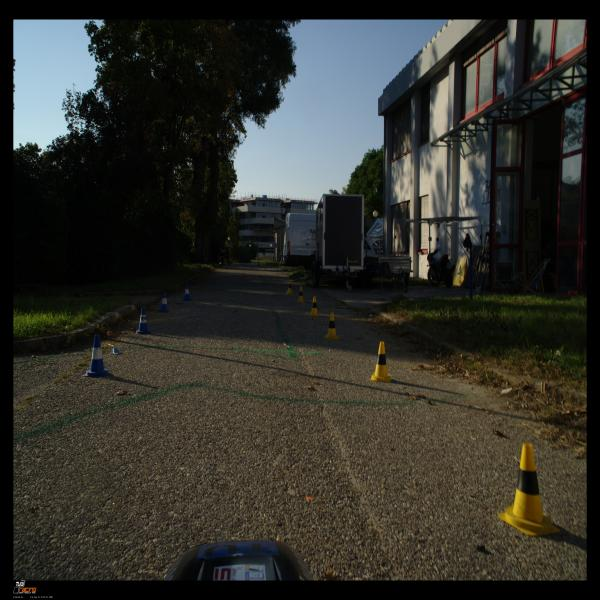blue_cone: (82, 335, 112, 377), (135, 307, 152, 334), (158, 292, 171, 313), (183, 284, 192, 301)
yellow_cone: (498, 443, 560, 536), (371, 341, 392, 382), (323, 313, 340, 340), (310, 296, 320, 317), (296, 286, 305, 303), (286, 280, 293, 294)
